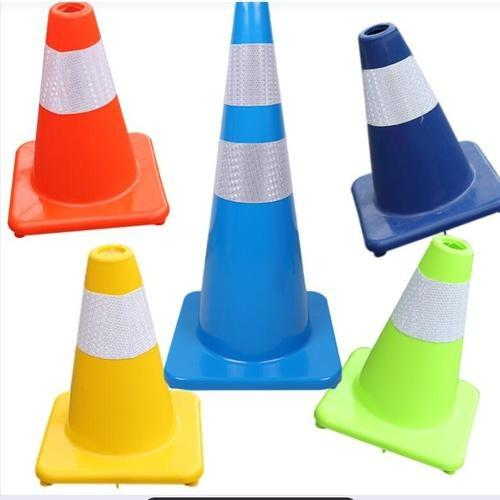cone_barrel: (181, 11, 326, 371), (51, 241, 188, 465), (344, 229, 479, 441), (25, 6, 143, 212), (353, 24, 476, 215)
